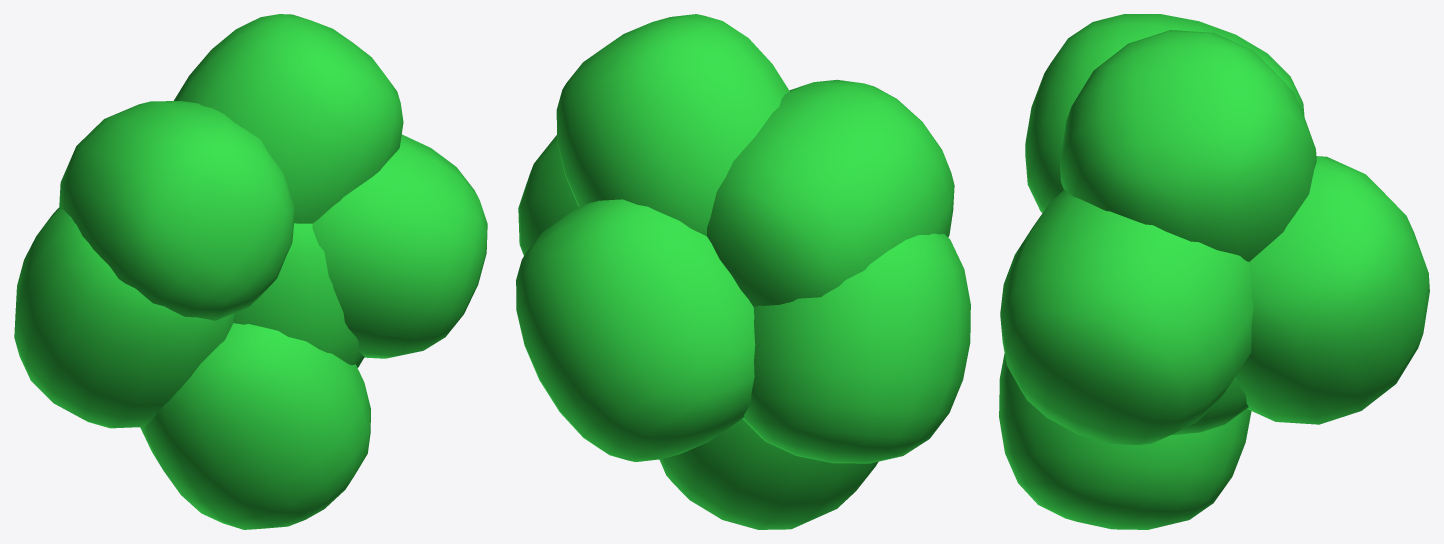
Rendered from bush.fbx.
3 renders of one model, left to right at view 1: azimuth 30°, elevation 25°; view 2: azimuth 150°, elevation 25°; view 3: azimuth 270°, elevation 25°, orthographic. The views are drawn at different scales.
Parts seen in each view (by area): view 1: Bush; view 2: Bush; view 3: Bush.
Part boxes in pixels (x1=…): Bush: x1=14, y1=14, x2=487, y2=529; Bush: x1=516, y1=14, x2=970, y2=529; Bush: x1=999, y1=14, x2=1429, y2=529.
Size of the model in its own units: 4.44 by 4.69 by 3.56.
